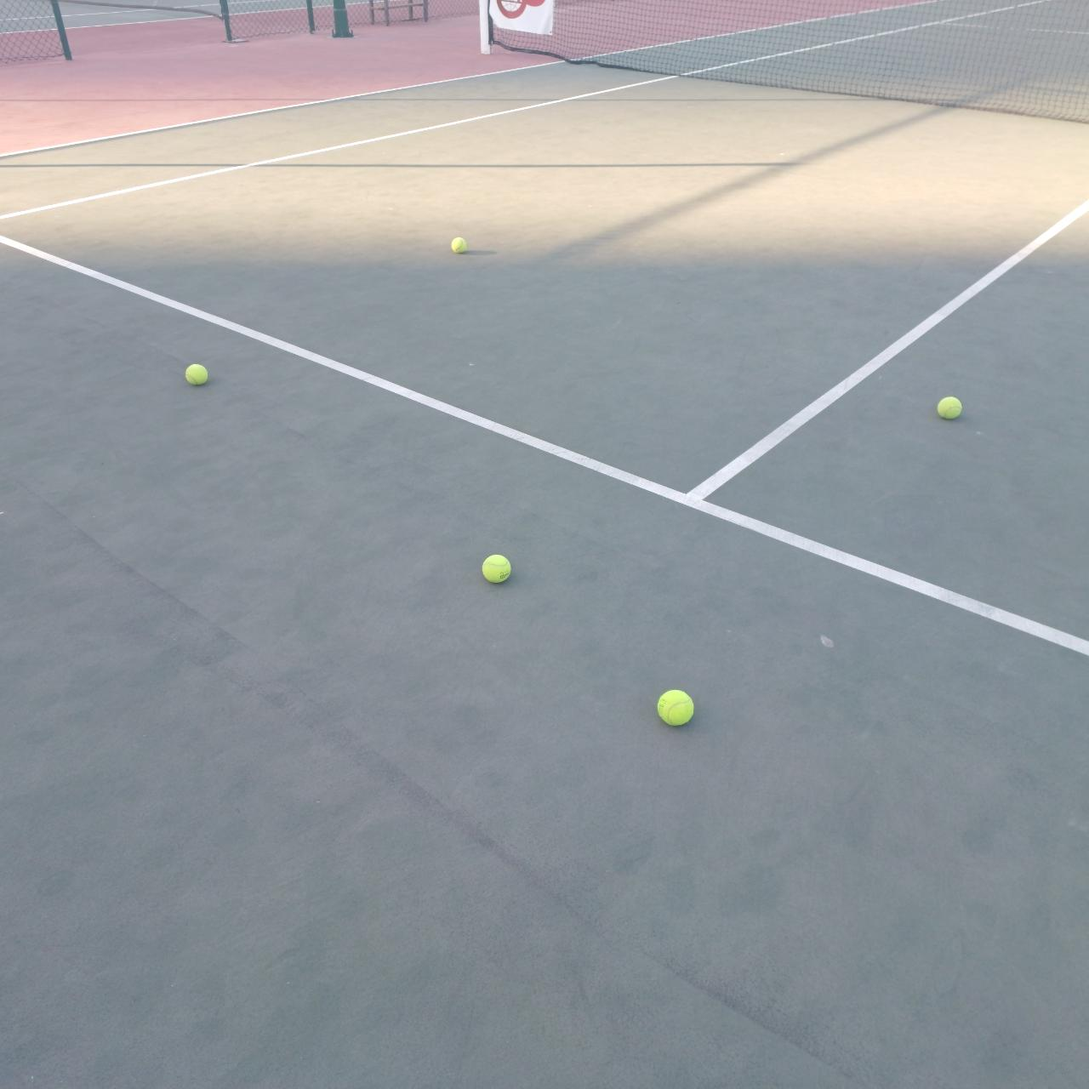tennis-ball: (657, 687, 697, 727), (482, 551, 514, 583), (938, 393, 965, 419), (185, 361, 210, 385), (451, 235, 469, 254)
